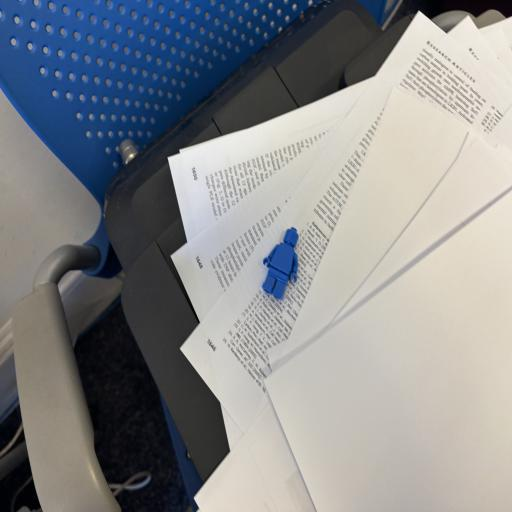Blue-Lego-Minifig: (262, 227, 299, 299)
